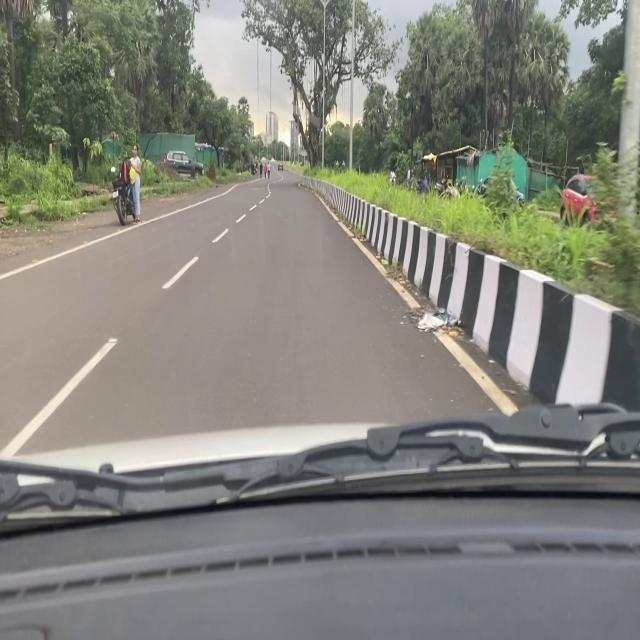lane: (5, 204, 259, 456), (314, 193, 514, 418), (2, 200, 209, 280)
